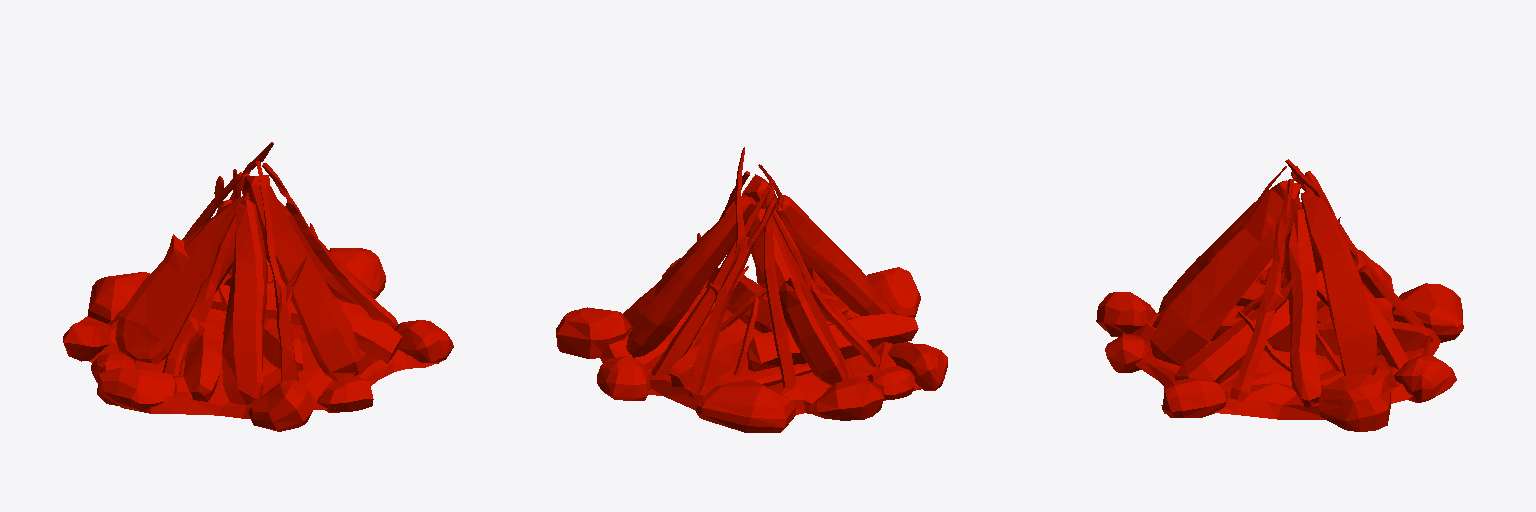
File: Campfire.obj
3 views of the same model, side by side, from view 1: azimuth 30°, elevation 25°; view 2: azimuth 150°, elevation 25°; view 3: azimuth 270°, elevation 25° (orthographic).
Visible parts, largest first — view 1: Campfire; view 2: Campfire; view 3: Campfire.
Part boxes in pixels (x1,y1,x2,y2): Campfire: (63,142,453,431); Campfire: (556,147,947,432); Campfire: (1096,159,1463,431).
Bounding box in the file's own units: 97.99 × 60.11 × 94.05.